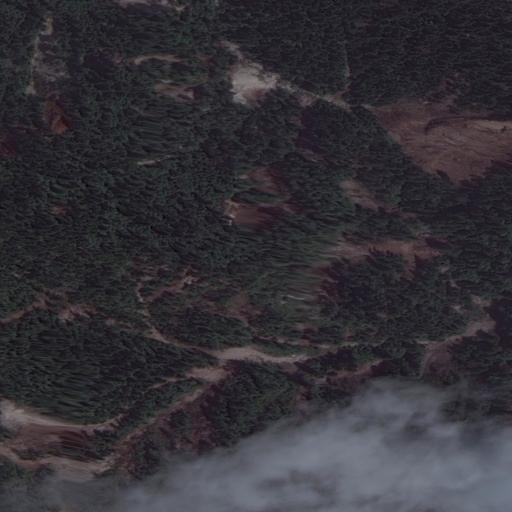landslide: (367, 93, 509, 185), (222, 54, 282, 107)
